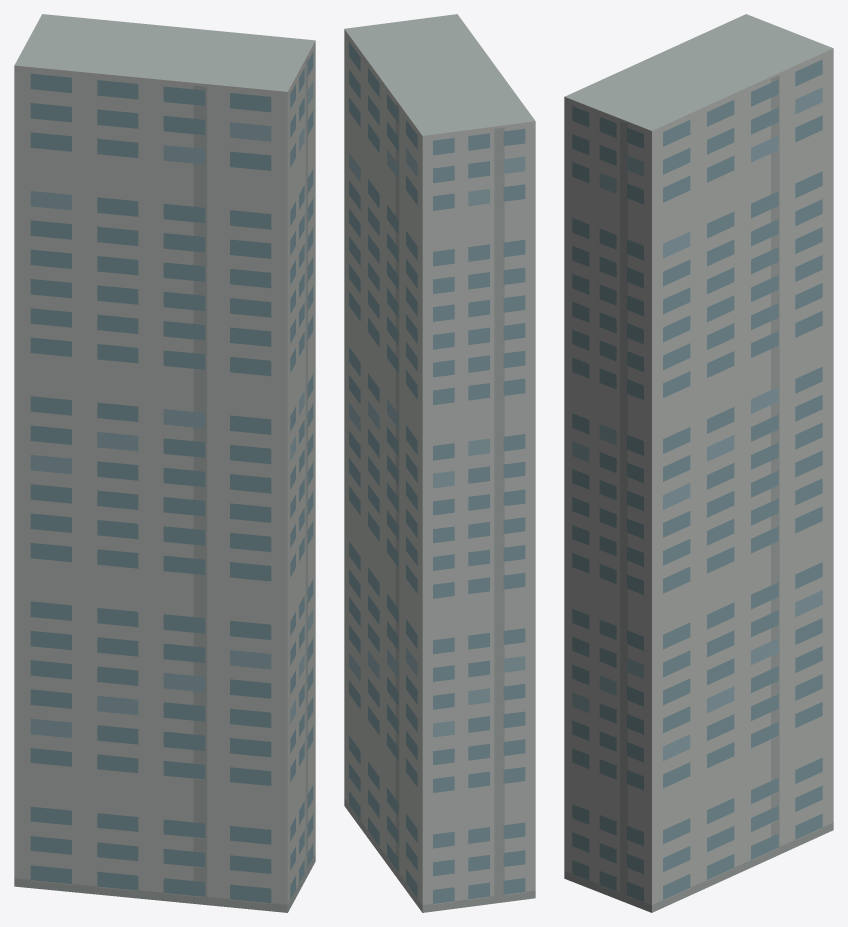
The model's file is residential-72b1ddd9-4b74-4ddc-8f3a-73d84c7d3961.glb.
The picture shows the model from 3 angles, left to right: view 1: azimuth 30°, elevation 25°; view 2: azimuth 150°, elevation 25°; view 3: azimuth 270°, elevation 25°; orthographic projection. The views are drawn at different scales.
Visible parts, largest first — view 1: residential-72b1ddd9-4b74-4ddc-8f3a-73d84c7d3961.tmp; view 2: residential-72b1ddd9-4b74-4ddc-8f3a-73d84c7d3961.tmp; view 3: residential-72b1ddd9-4b74-4ddc-8f3a-73d84c7d3961.tmp.
Part boxes in pixels (x1=…): residential-72b1ddd9-4b74-4ddc-8f3a-73d84c7d3961.tmp: x1=14, y1=14, x2=315, y2=912; residential-72b1ddd9-4b74-4ddc-8f3a-73d84c7d3961.tmp: x1=344, y1=14, x2=535, y2=912; residential-72b1ddd9-4b74-4ddc-8f3a-73d84c7d3961.tmp: x1=564, y1=14, x2=833, y2=912.
Size of the model in its own units: 25.68 by 80 by 24.96.
